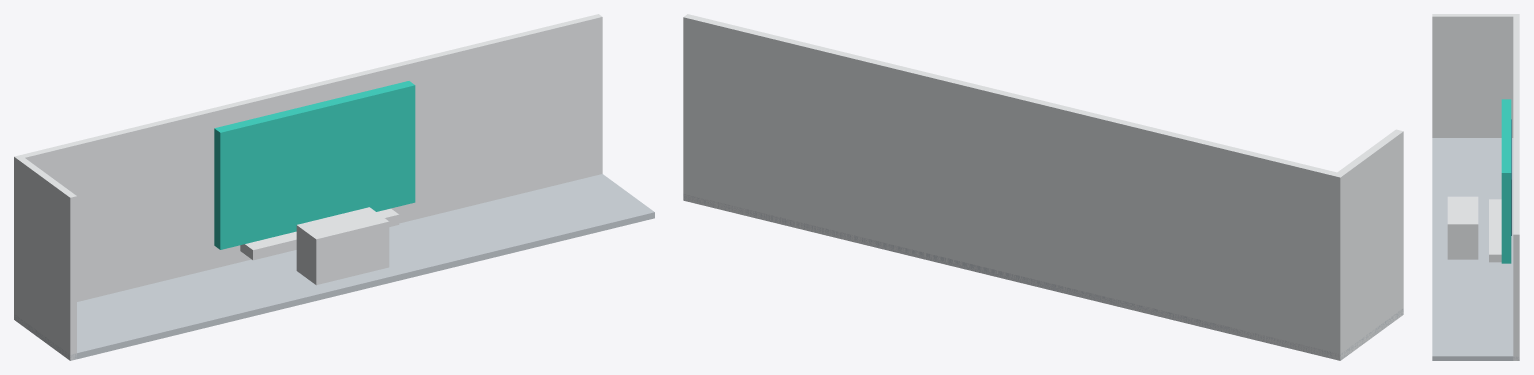
The picture shows the model from 3 angles, left to right: view 1: azimuth 30°, elevation 25°; view 2: azimuth 150°, elevation 25°; view 3: azimuth 270°, elevation 25°; orthographic projection. The views are drawn at different scales.
Parts seen in each view (by area): view 1: Exhibition Booth Concept; view 2: Exhibition Booth Concept; view 3: Exhibition Booth Concept.
Boxes of the visible parts, x1,y1,x2,y2 form: Exhibition Booth Concept: [14, 14, 654, 360]; Exhibition Booth Concept: [683, 14, 1403, 360]; Exhibition Booth Concept: [1432, 14, 1519, 360].
Bounding box in the file's own units: 12 × 3.2 × 2.
